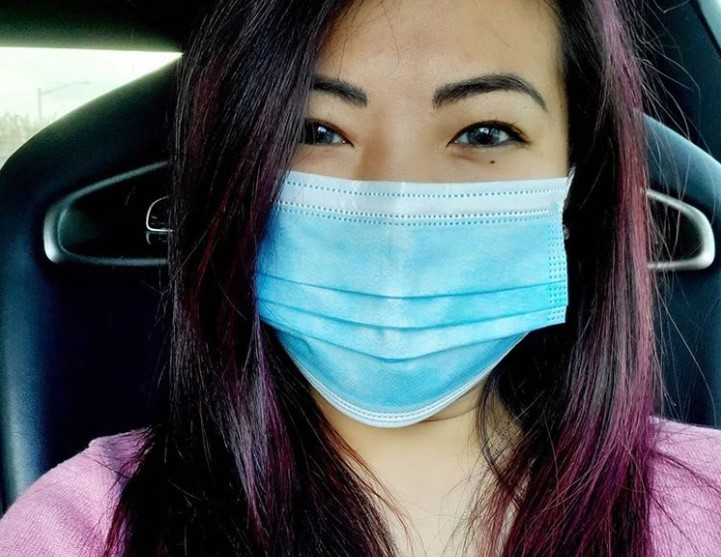face_with_mask: (203, 6, 645, 436)
